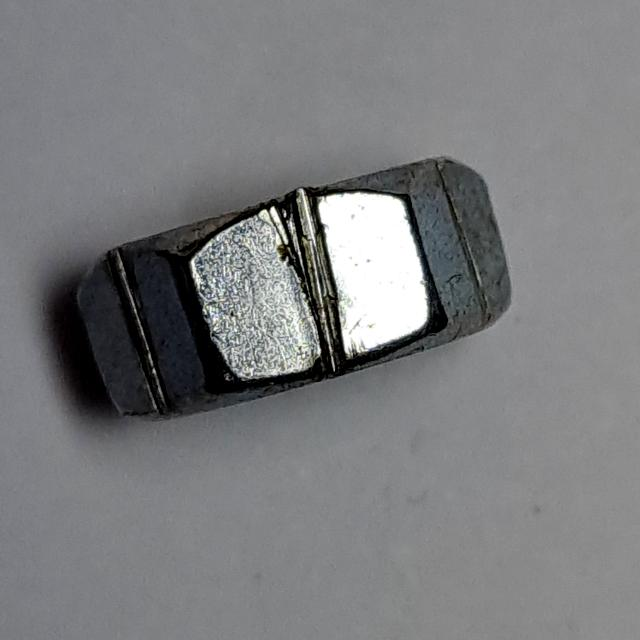Side_Scratches: (66, 139, 528, 437)
